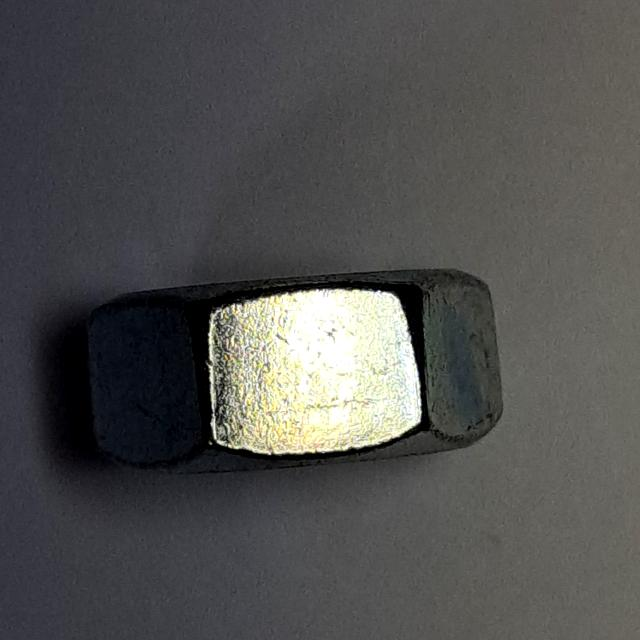Side_Excellent: (74, 250, 527, 498)
